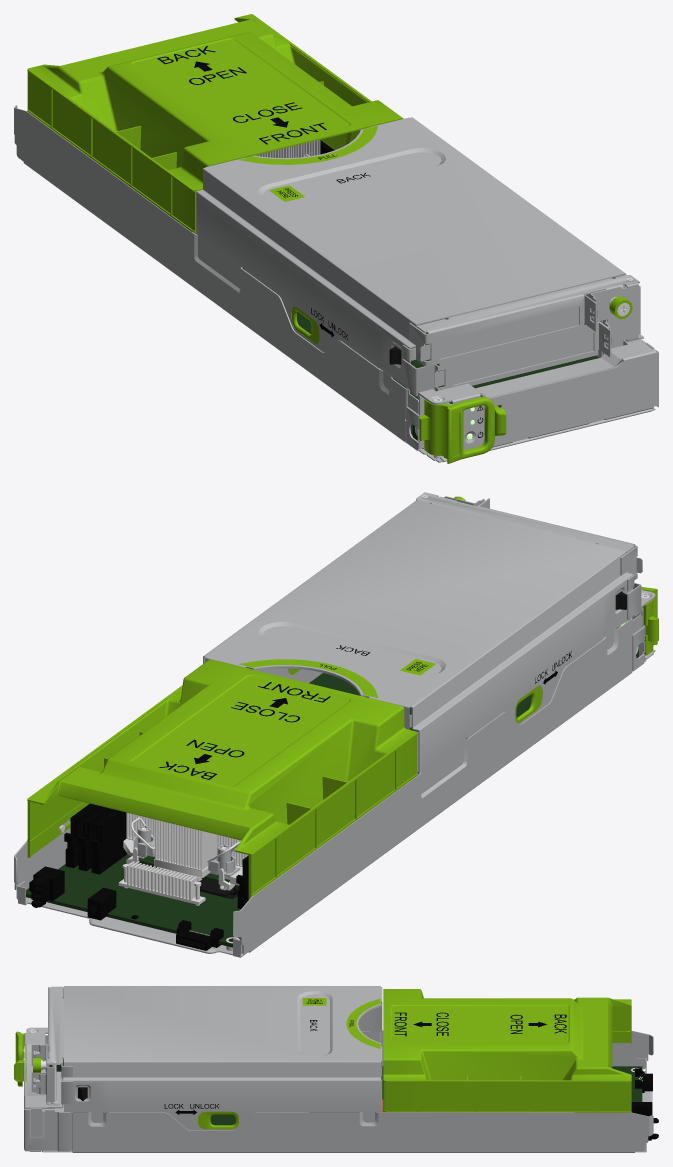
Rendered from discovery-point.glb.
3 views of the same model, one above another, from view 1: azimuth 30°, elevation 25°; view 2: azimuth 150°, elevation 25°; view 3: azimuth 270°, elevation 25° (orthographic). The views are drawn at different scales.
Visible parts, largest first — view 1: Tray.002, Cover.004; view 2: Tray.002, Cover.004; view 3: Tray.002, Cover.004.
Part boxes in pixels (x1,y1,x2,y2): Tray.002: [14, 105, 658, 463]; Cover.004: [27, 14, 403, 233]; Tray.002: [14, 492, 658, 957]; Cover.004: [27, 659, 417, 899]; Tray.002: [14, 986, 658, 1152]; Cover.004: [383, 989, 631, 1112].
Size of the model in its own units: 0.1721 by 0.0822 by 0.5439.
Materials: 10 (2 with a texture image).
